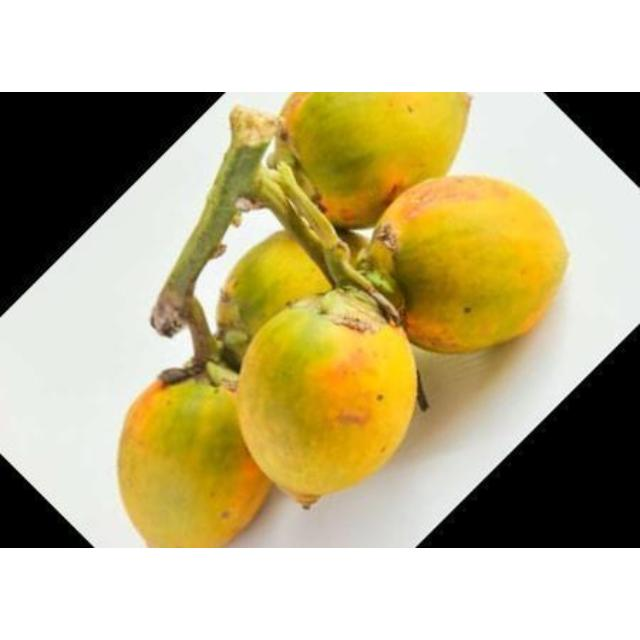good: (237, 293, 416, 505), (374, 174, 568, 353), (117, 367, 271, 547), (280, 92, 470, 228), (218, 230, 344, 350), (344, 232, 408, 318), (279, 92, 317, 150)
